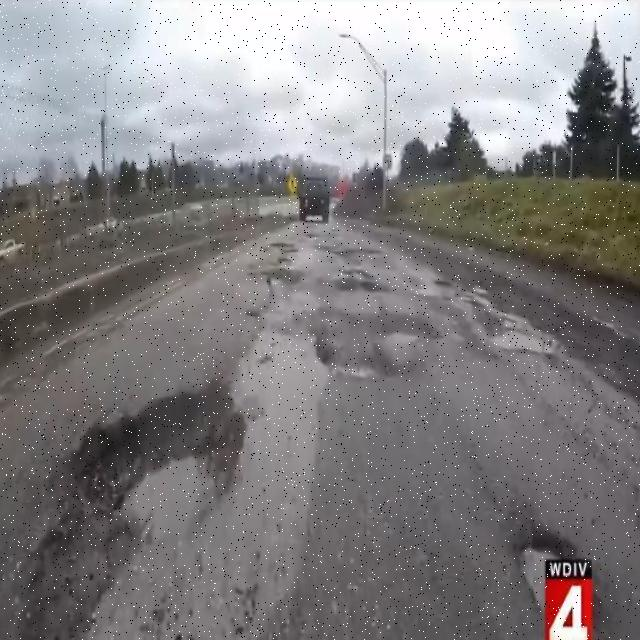pothole: (96, 400, 240, 535), (489, 317, 553, 356), (326, 348, 405, 375)
